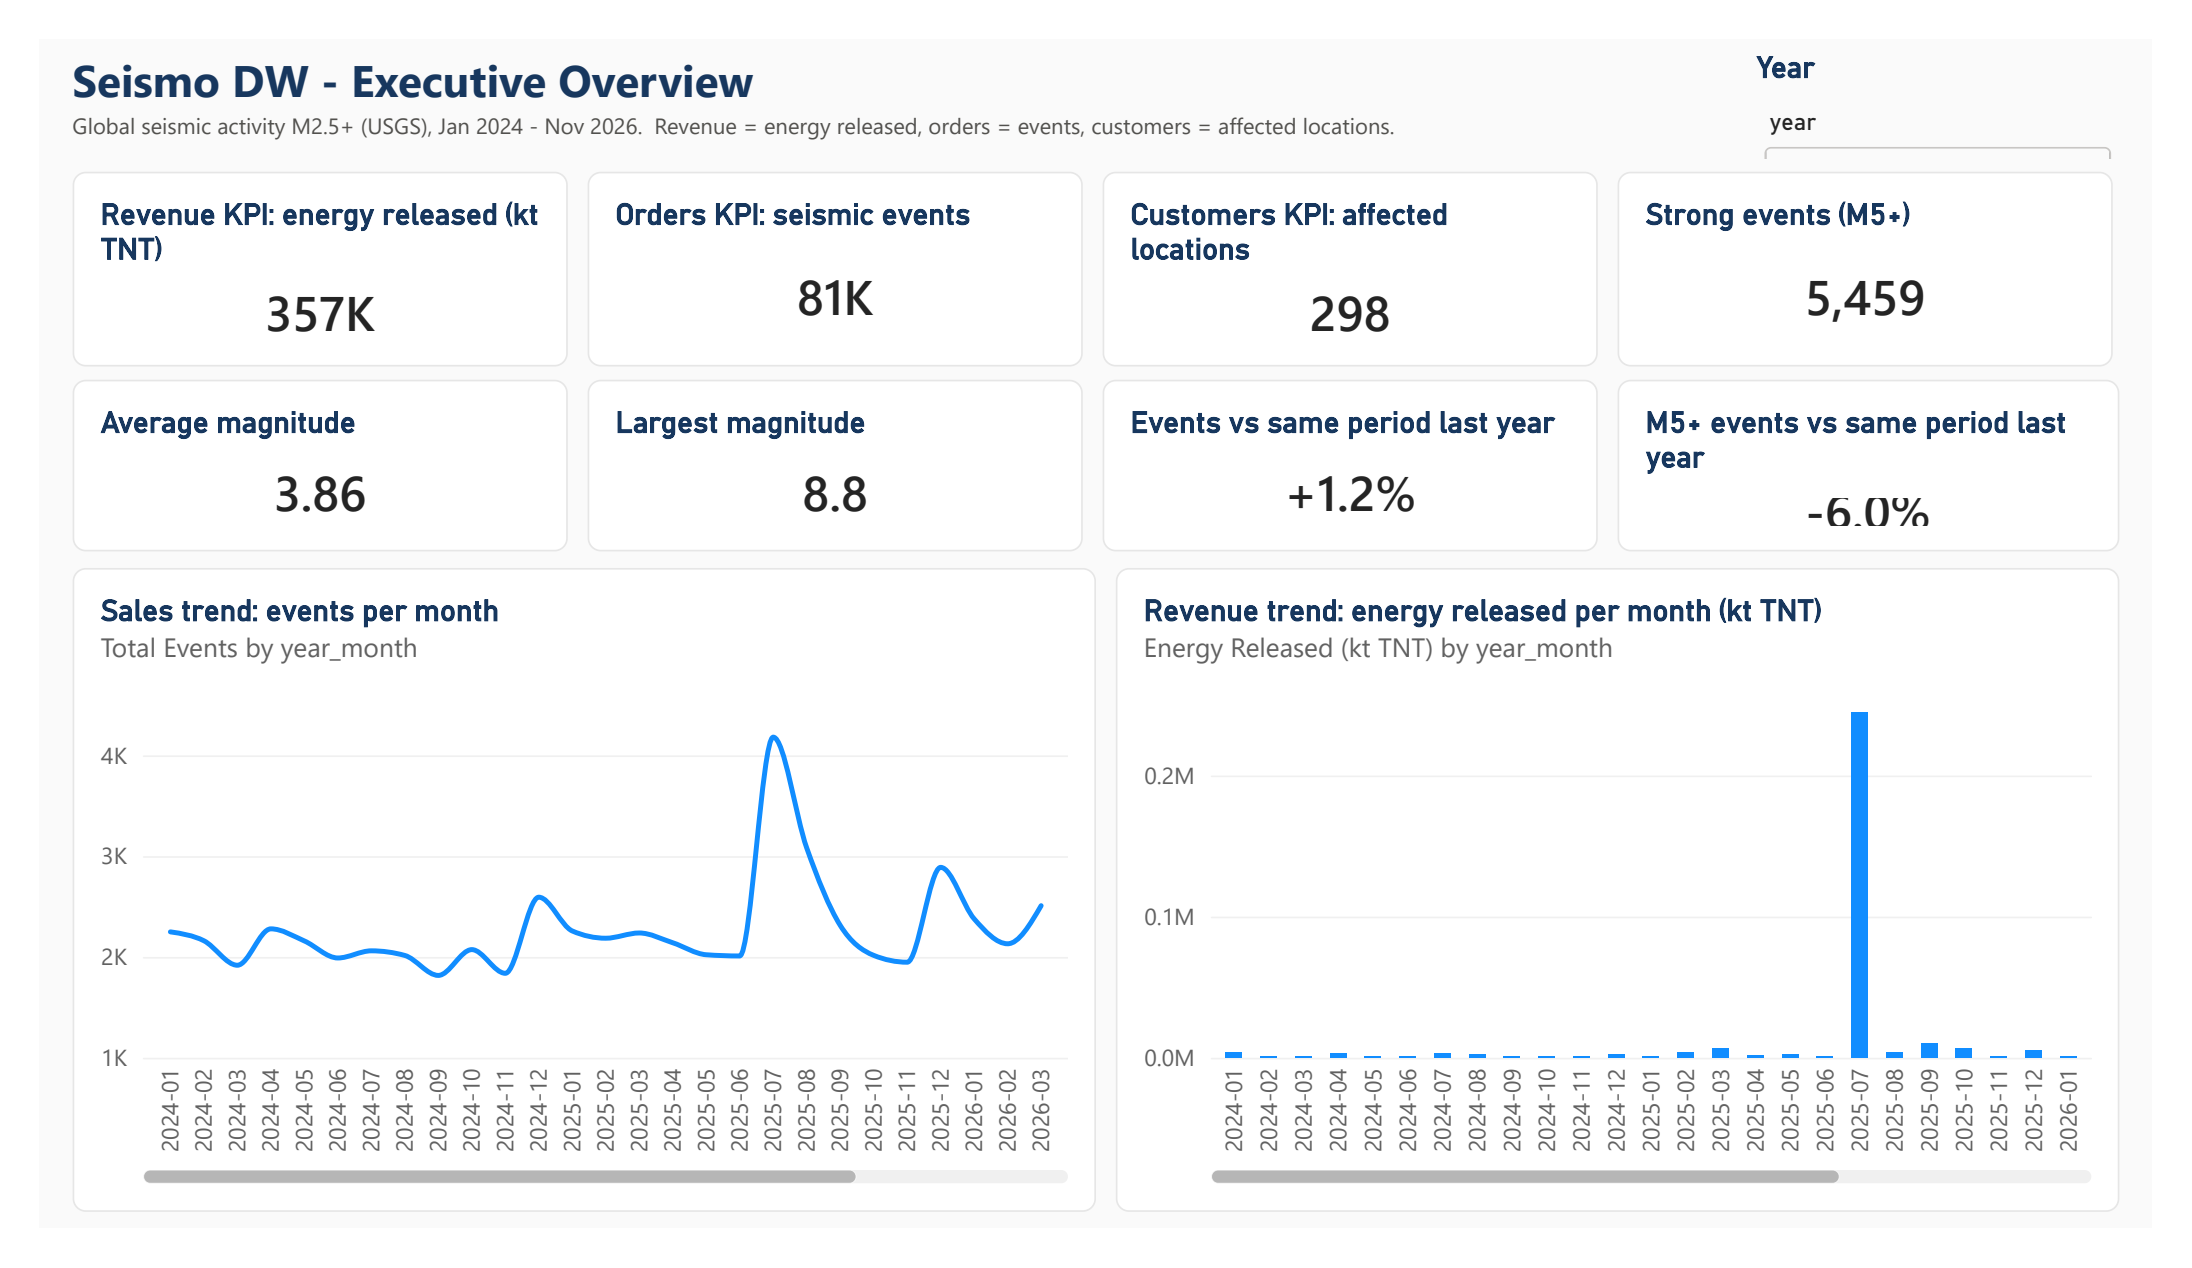

This screenshot's page, from the dashboard's own definition file:
{"tool":"powerbi","page":{"name":"Executive Overview","canvas":[1280,720],"ordinal":0},"visuals":[{"type":"textbox","box":[20,6,1000,66],"z":1000},{"type":"slicer","title":"Year","fields":{"Values":["dim_date.year"]},"box":[1040,6,220,66],"z":2000},{"type":"card","title":"Revenue KPI: energy released (kt TNT)","fields":{"Values":["fact_seismic_event.Energy Released (kt TNT)"]},"box":[20,80,300,118],"z":3000},{"type":"card","title":"Orders KPI: seismic events","fields":{"Values":["fact_seismic_event.Total Events"]},"box":[332,80,300,118],"z":4000},{"type":"card","title":"Customers KPI: affected locations","fields":{"Values":["fact_seismic_event.Affected Locations"]},"box":[644,80,300,118],"z":5000},{"type":"card","title":"Strong events (M5+)","fields":{"Values":["fact_seismic_event.Strong Events (M5+)"]},"box":[956,80,300,118],"z":6000},{"type":"card","title":"Average magnitude","fields":{"Values":["fact_seismic_event.Avg Magnitude"]},"box":[20,206,300,104],"z":7000},{"type":"card","title":"Largest magnitude","fields":{"Values":["fact_seismic_event.Max Magnitude"]},"box":[332,206,300,104],"z":8000},{"type":"card","title":"Events vs same period last year","fields":{"Values":["fact_seismic_event.Events YoY % (same period)"]},"box":[644,206,300,104],"z":9000},{"type":"card","title":"M5+ events vs same period last year","fields":{"Values":["fact_seismic_event.Strong Events YoY % (same period)"]},"box":[956,206,304,104],"z":10000},{"type":"lineChart","title":"Sales trend: events per month","fields":{"Category":["dim_date.year_month"],"Y":["fact_seismic_event.Total Events"]},"box":[20,320,620,390],"z":11000},{"type":"clusteredColumnChart","title":"Revenue trend: energy released per month (kt TNT)","fields":{"Category":["dim_date.year_month"],"Y":["fact_seismic_event.Energy Released (kt TNT)"]},"box":[652,320,608,390],"z":12000}]}

Visuals, with their boxes in screenshot pixels (x1, y1, x2, y2), scaled from the page's 1280x720 canvas onto the 2192x1268 screenshot:
textbox: pyautogui.locateOnScreen(34, 11, 1747, 127)
"Year" slicer: pyautogui.locateOnScreen(1781, 11, 2158, 127)
"Revenue KPI: energy released (kt TNT)" card: pyautogui.locateOnScreen(34, 141, 548, 349)
"Orders KPI: seismic events" card: pyautogui.locateOnScreen(569, 141, 1082, 349)
"Customers KPI: affected locations" card: pyautogui.locateOnScreen(1103, 141, 1617, 349)
"Strong events (M5+)" card: pyautogui.locateOnScreen(1637, 141, 2151, 349)
"Average magnitude" card: pyautogui.locateOnScreen(34, 363, 548, 546)
"Largest magnitude" card: pyautogui.locateOnScreen(569, 363, 1082, 546)
"Events vs same period last year" card: pyautogui.locateOnScreen(1103, 363, 1617, 546)
"M5+ events vs same period last year" card: pyautogui.locateOnScreen(1637, 363, 2158, 546)
"Sales trend: events per month" lineChart: pyautogui.locateOnScreen(34, 564, 1096, 1250)
"Revenue trend: energy released per month (kt TNT)" clusteredColumnChart: pyautogui.locateOnScreen(1117, 564, 2158, 1250)
